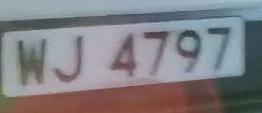4: (103, 31, 142, 84)
7: (137, 26, 172, 78), (202, 22, 235, 73)
9: (169, 25, 206, 77)
J: (47, 32, 91, 88)
W: (12, 34, 54, 93)
